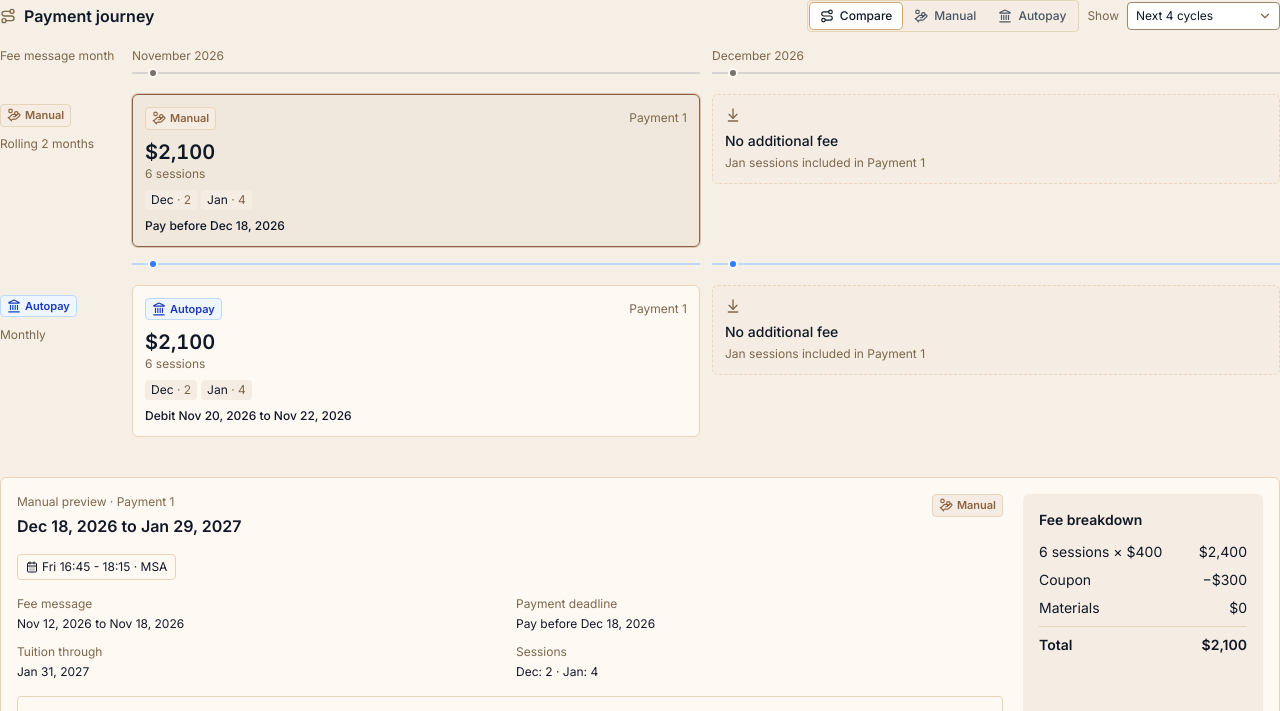
Test: visual payment journey › compares both plans by default and selects only the clicked skipped cycle
Click the button with aria-label "Manual: no additional fee in December" at [782, 140], box [712,94,1279,184]
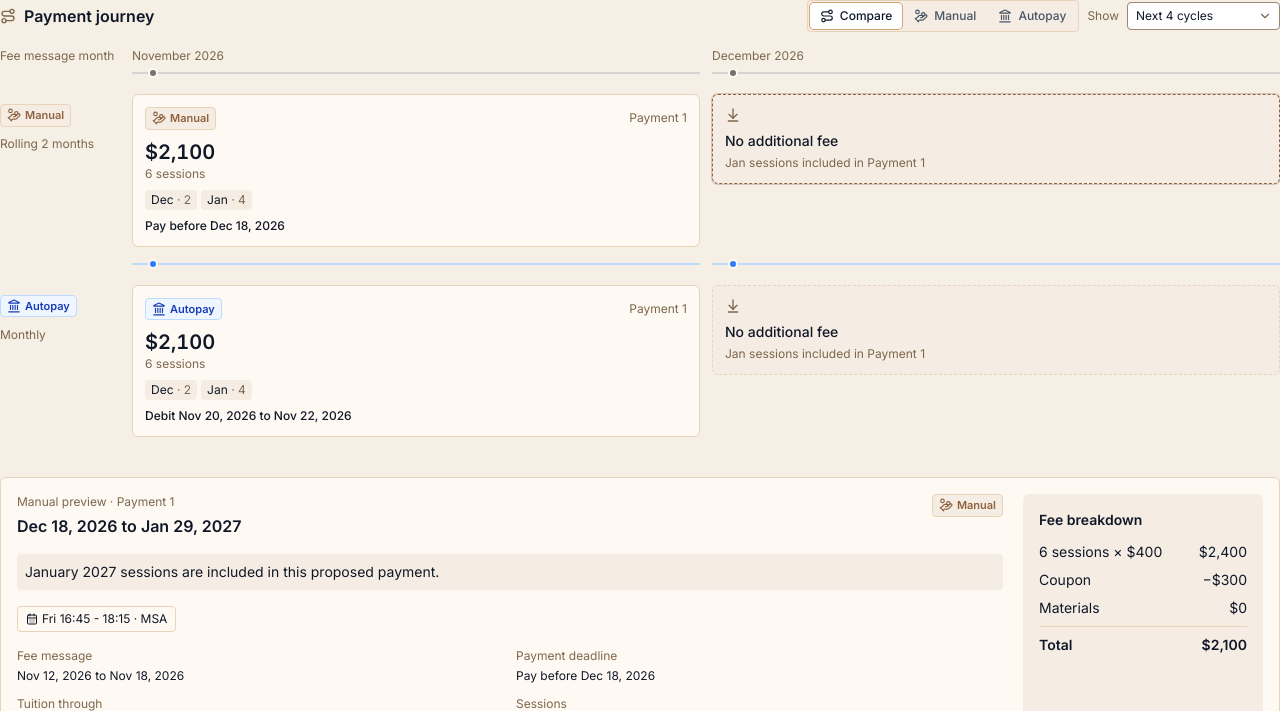
Expected: the text "January 2027 sessions are included in this proposed payment." is shown, [17,554,1003,590]
Click the button "Autopay" at [1032, 16], box [988,3,1076,29]
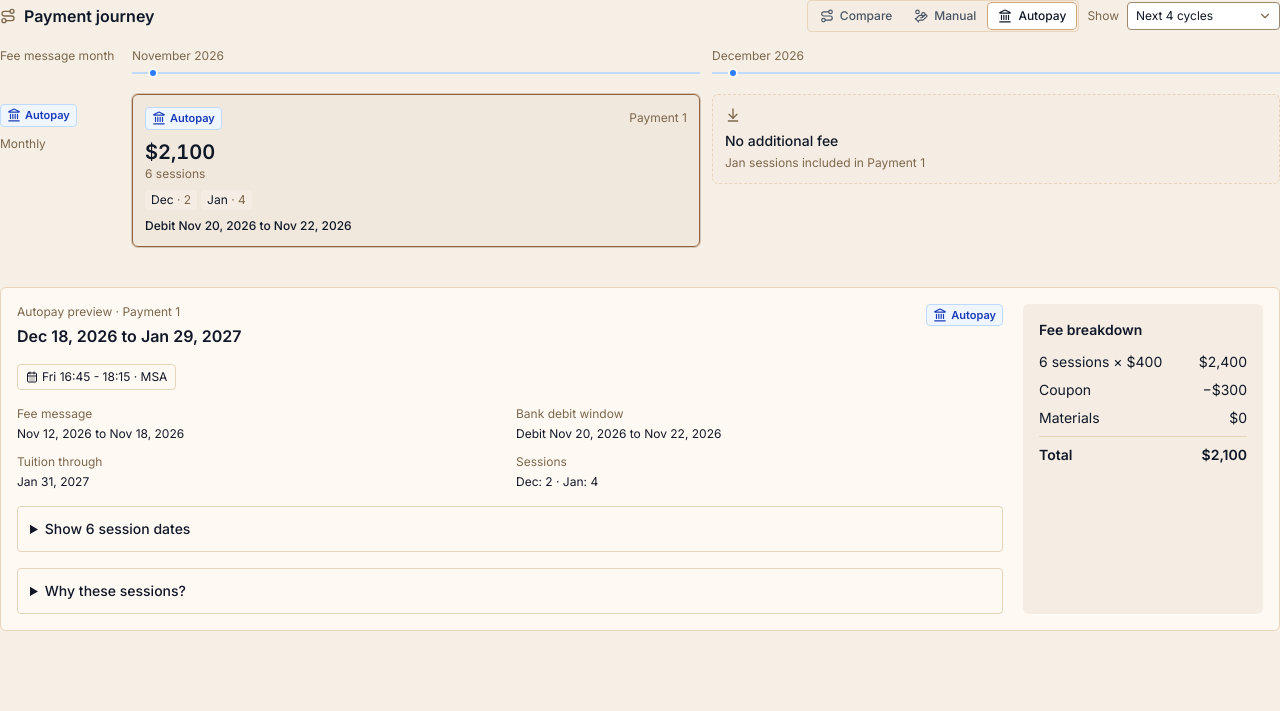
Expected: the button "Manual Payment" is gone
